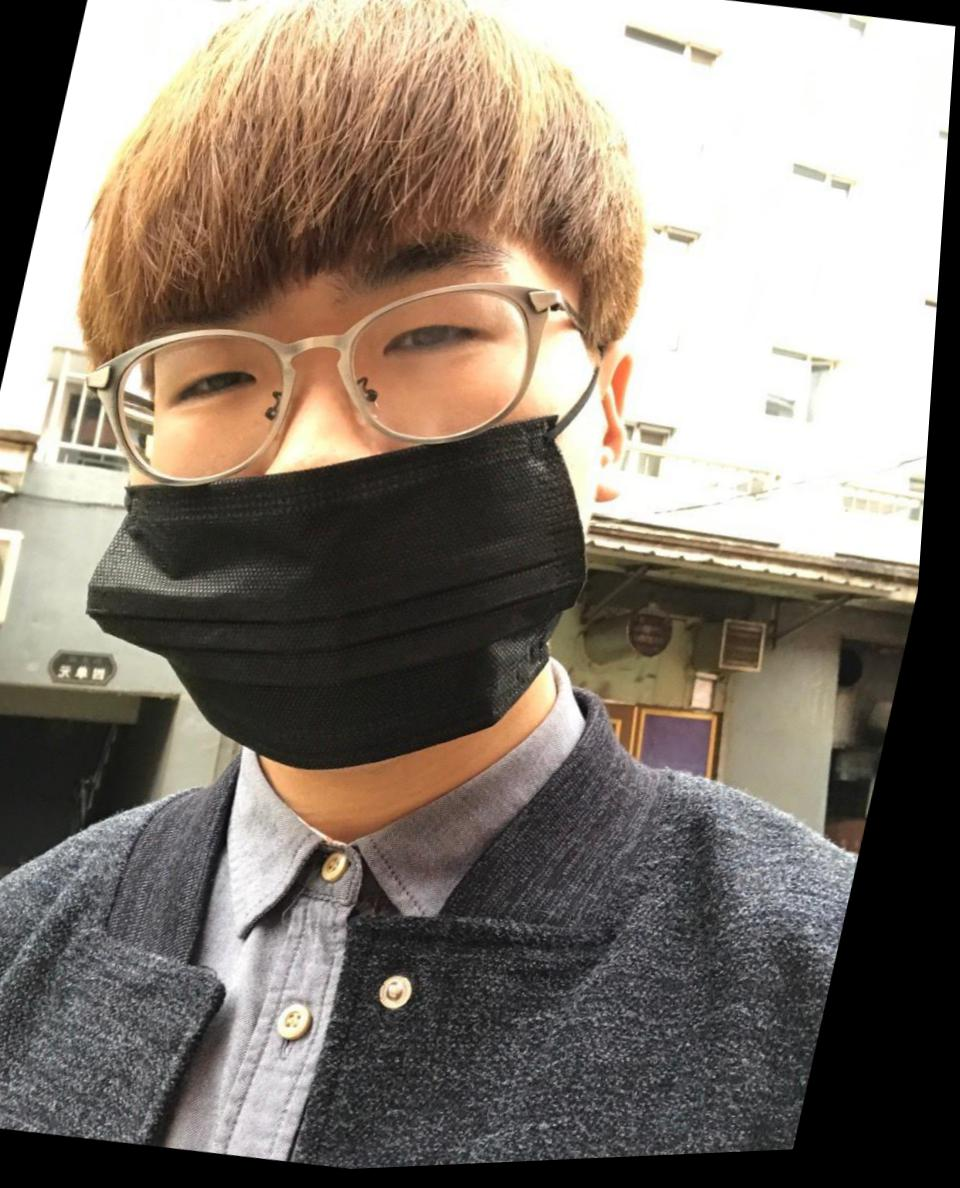WRONG: (73, 133, 679, 798)
